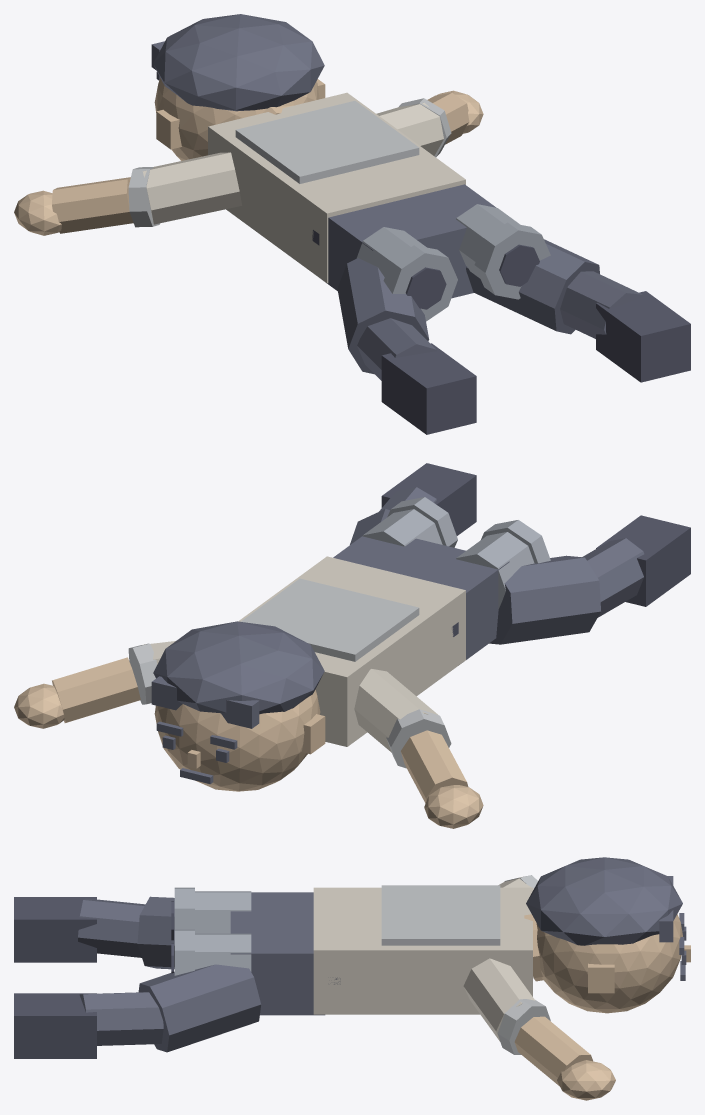
Rendered from character_flying.glb.
The picture shows the model from 3 angles, top to bottom: view 1: azimuth 30°, elevation 25°; view 2: azimuth 150°, elevation 25°; view 3: azimuth 270°, elevation 25°; orthographic projection. The views are drawn at different scales.
Parts seen in each view (by area): view 1: 000_shirt_torso, 006_hair_cap, 001_rolled_shirt_back, 002_waist_pants, 023_shoe_-1, 033_shoe_1, 017_upper_sleeve_-1, 021_upper_leg_-1, 031_upper_leg_1, 019_forearm_-1, 005_head, 032_lower_leg_1 (+12 smaller); view 2: 000_shirt_torso, 006_hair_cap, 005_head, 001_rolled_shirt_back, 021_upper_leg_-1, 002_waist_pants, 023_shoe_-1, 029_forearm_1, 017_upper_sleeve_-1, 033_shoe_1, 022_lower_leg_-1, 019_forearm_-1 (+11 smaller); view 3: 000_shirt_torso, 006_hair_cap, 002_waist_pants, 005_head, 001_rolled_shirt_back, 031_upper_leg_1, 033_shoe_1, 023_shoe_-1, 032_lower_leg_1, 022_lower_leg_-1, 027_upper_sleeve_1, 029_forearm_1 (+10 smaller).
Part boxes in pixels (x1,y1,x2,y2): 000_shirt_torso: [208, 92, 465, 283]; 006_hair_cap: [153, 14, 324, 111]; 001_rolled_shirt_back: [235, 101, 419, 183]; 002_waist_pants: [327, 184, 495, 298]; 023_shoe_-1: [381, 343, 476, 434]; 033_shoe_1: [596, 291, 690, 382]; 017_upper_sleeve_-1: [142, 152, 242, 224]; 021_upper_leg_-1: [337, 258, 429, 374]; 031_upper_leg_1: [466, 239, 599, 334]; 019_forearm_-1: [52, 177, 133, 233]; 005_head: [154, 78, 319, 160]; 032_lower_leg_1: [560, 271, 644, 338]; 000_shirt_torso: [238, 556, 465, 746]; 006_hair_cap: [153, 621, 324, 714]; 005_head: [154, 689, 320, 791]; 001_rolled_shirt_back: [241, 578, 419, 661]; 021_upper_leg_-1: [489, 555, 600, 644]; 002_waist_pants: [333, 536, 509, 659]; 023_shoe_-1: [596, 515, 690, 606]; 029_forearm_1: [52, 657, 140, 722]; 017_upper_sleeve_-1: [354, 669, 437, 752]; 033_shoe_1: [381, 463, 476, 535]; 022_lower_leg_-1: [582, 538, 644, 617]; 019_forearm_-1: [400, 730, 468, 803]; 000_shirt_torso: [313, 887, 532, 1014]; 006_hair_cap: [526, 857, 682, 945]; 002_waist_pants: [230, 892, 324, 1015]; 005_head: [536, 914, 682, 1013]; 001_rolled_shirt_back: [381, 885, 500, 945]; 031_upper_leg_1: [138, 964, 261, 1052]; 033_shoe_1: [14, 993, 96, 1058]; 023_shoe_-1: [14, 897, 96, 962]; 032_lower_leg_1: [79, 992, 163, 1045]; 022_lower_leg_-1: [78, 898, 145, 957]; 027_upper_sleeve_1: [463, 958, 534, 1041]; 029_forearm_1: [514, 1016, 592, 1086].
Bounding box in the file's own units: 1.65 × 0.5171 × 2.28.
